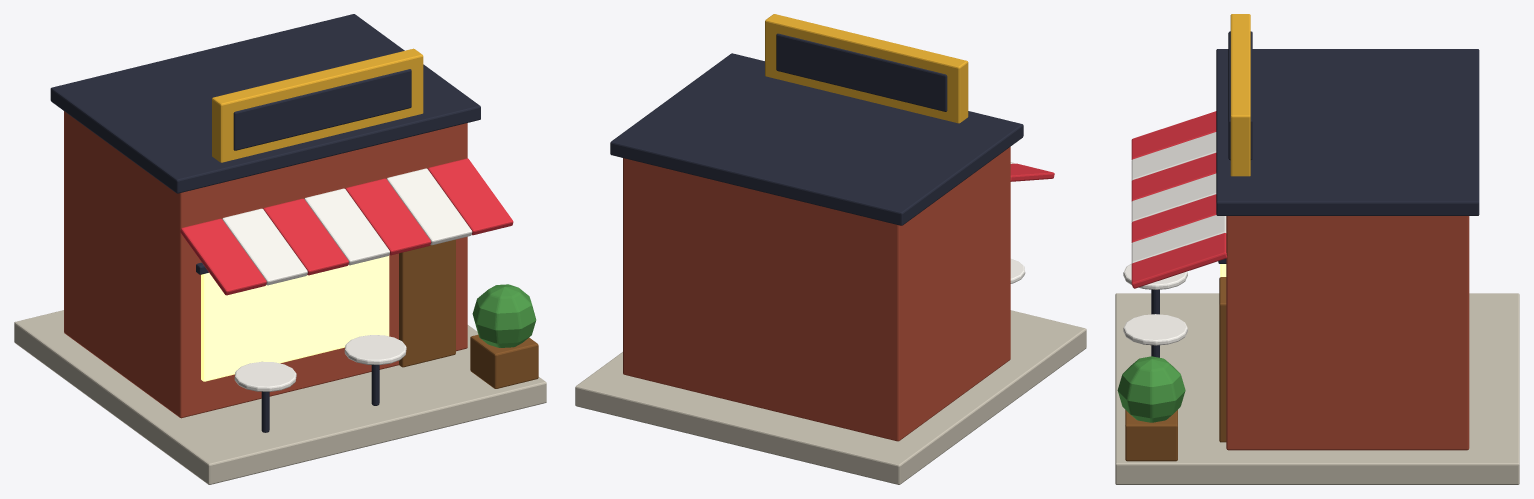
Rendered from business.glb.
3 views of the same model, side by side, from view 1: azimuth 30°, elevation 25°; view 2: azimuth 150°, elevation 25°; view 3: azimuth 270°, elevation 25° (orthographic). The views are drawn at different scales.
Visible parts, largest first — view 1: Business; view 2: Business; view 3: Business.
Boxes of the visible parts, x1,y1,x2,y2 form: Business: [14, 14, 546, 484]; Business: [575, 14, 1086, 484]; Business: [1115, 14, 1519, 484].
Size of the model in its own units: 2.02 by 1.83 by 2.
